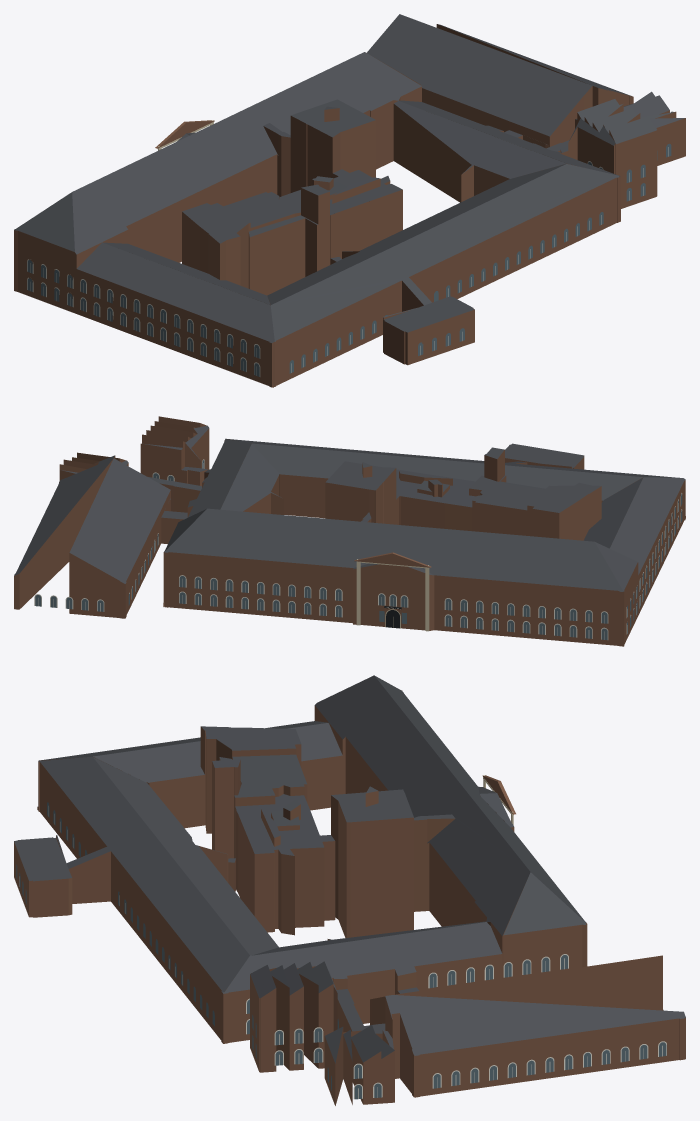
File: rijksakademie.glb
3 renders of one model, top to bottom at view 1: azimuth 30°, elevation 25°; view 2: azimuth 150°, elevation 25°; view 3: azimuth 270°, elevation 25°, orthographic. The views are drawn at different scales.
Parts seen in each view (by area): view 1: rijksakademie; view 2: rijksakademie; view 3: rijksakademie.
Boxes of the visible parts, <box> form: rijksakademie: <box>14,14,685,387</box>; rijksakademie: <box>14,416,685,646</box>; rijksakademie: <box>14,675,685,1105</box>.
Bounding box in the file's own units: 121 × 21.44 × 98.4.
